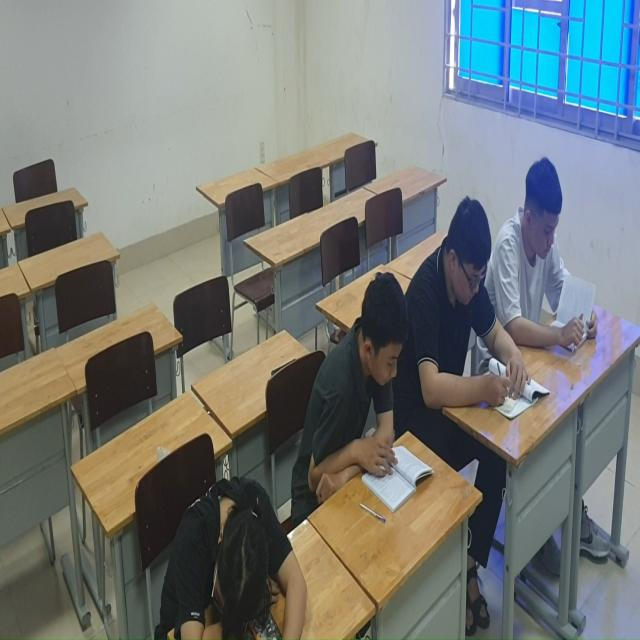read: (311, 273, 437, 516), (417, 184, 529, 431), (497, 153, 601, 363)
sleep: (169, 481, 311, 640)
